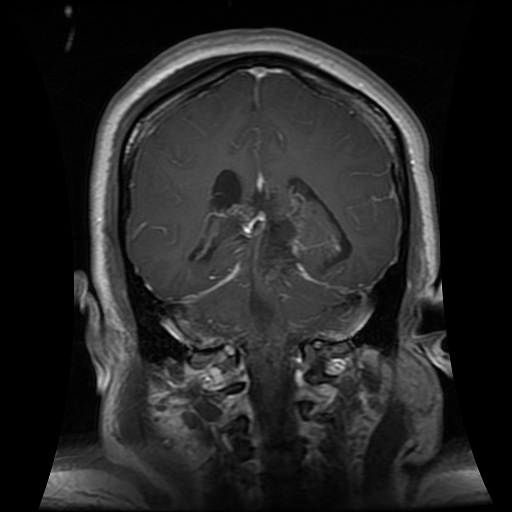glioma: (193, 167, 356, 292)
